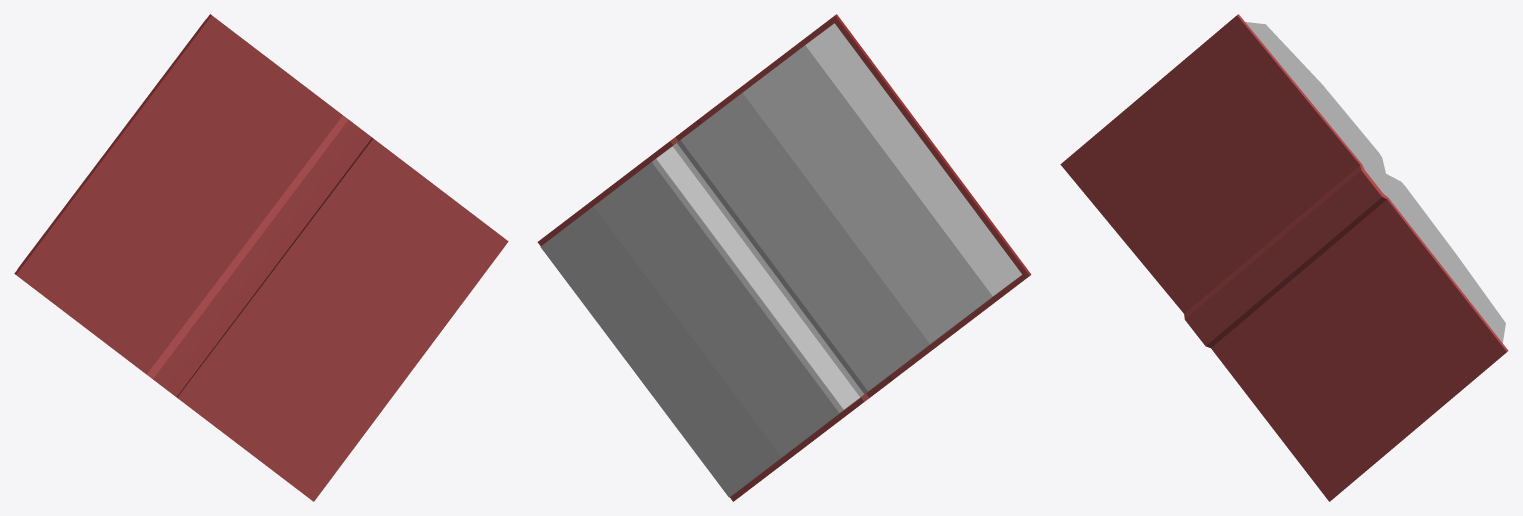
Rendered from Side_Book_left.FBX.
3 views of the same model, side by side, from view 1: azimuth 30°, elevation 25°; view 2: azimuth 150°, elevation 25°; view 3: azimuth 330°, elevation 25° (orthographic). The views are drawn at different scales.
Visible parts, largest first — view 1: Object018; view 2: Object018; view 3: Object018.
Part boxes in pixels (x1,y1,x2,y2): Object018: (14, 14, 508, 501); Object018: (537, 14, 1031, 501); Object018: (1060, 14, 1508, 501).
Size of the model in its own units: 15.65 by 15.53 by 1.48.
Materials: 1 (1 with a texture image).
